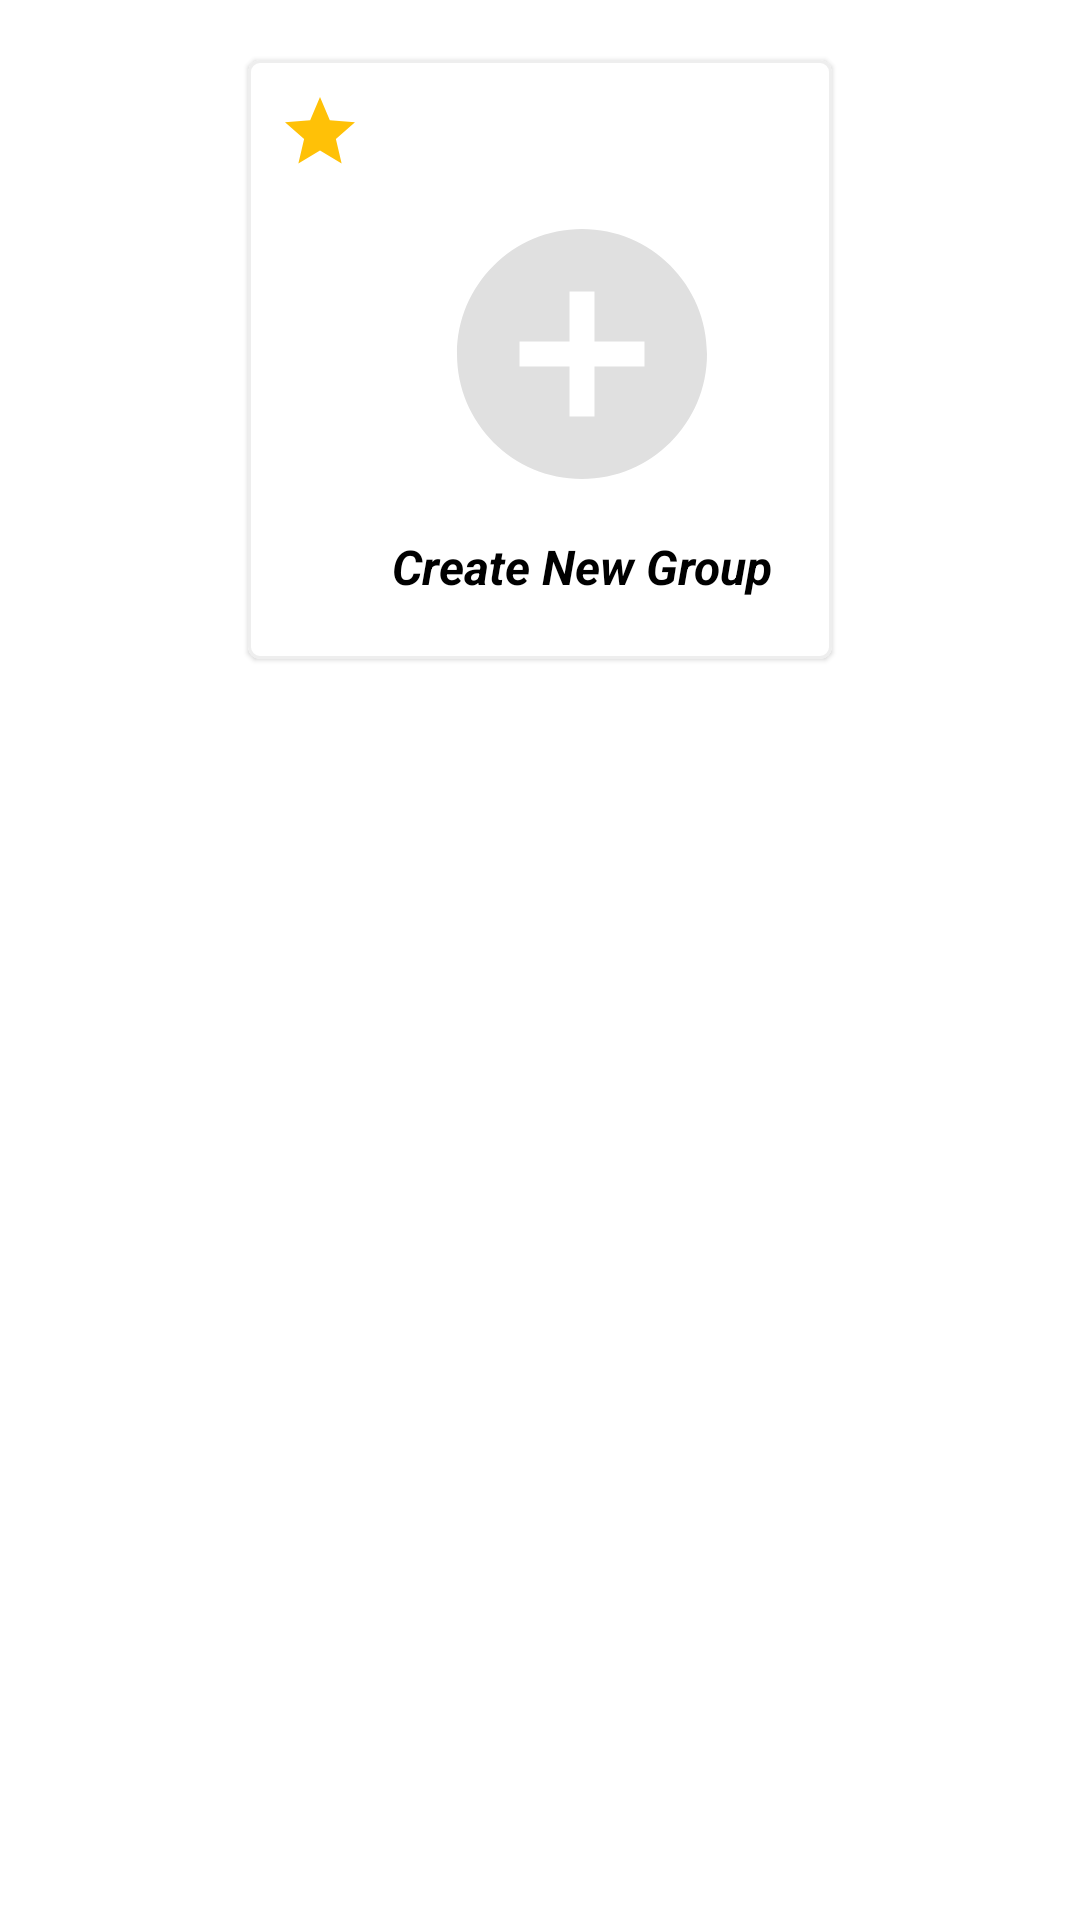

Icons on this 1080×1920 Android screen, each with its box as (x1, y1, x2, y2):
add circle: (457, 229, 707, 479)
star: (285, 97, 355, 164)
